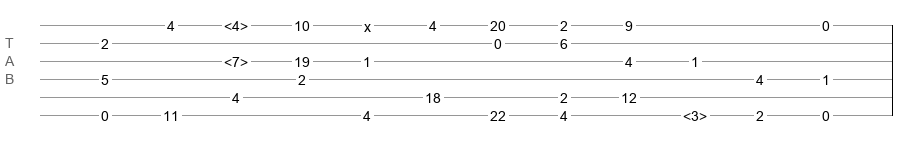0: (101, 108, 109, 118), (494, 36, 502, 46), (822, 18, 830, 28), (822, 108, 830, 118)
1: (363, 54, 371, 64), (691, 54, 699, 64), (822, 72, 830, 82)
10: (294, 18, 310, 28)
11: (163, 108, 179, 118)
12: (621, 90, 637, 100)
18: (425, 90, 441, 100)
19: (294, 54, 310, 64)
2: (101, 36, 109, 46), (298, 72, 306, 82), (560, 90, 568, 100), (560, 18, 568, 28), (756, 108, 764, 118)
20: (490, 18, 506, 28)
22: (490, 108, 506, 118)
4: (167, 18, 175, 28), (232, 90, 240, 100), (363, 108, 371, 118), (429, 18, 437, 28), (560, 108, 568, 118), (625, 54, 633, 64), (756, 72, 764, 82)
5: (101, 72, 109, 82)
6: (560, 36, 568, 46)
9: (625, 18, 633, 28)
harmonic: (224, 54, 248, 64), (224, 18, 248, 28), (683, 108, 707, 118)
x: (364, 19, 371, 27)
